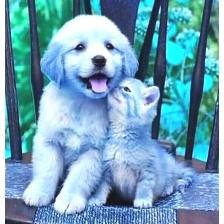kedo: (88, 77, 195, 209)
